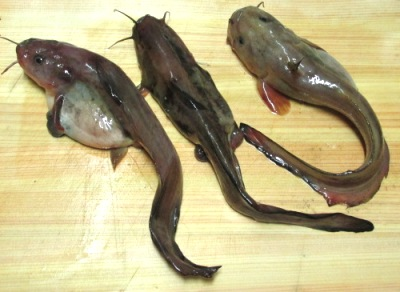gonzui: (222, 6, 396, 194)
